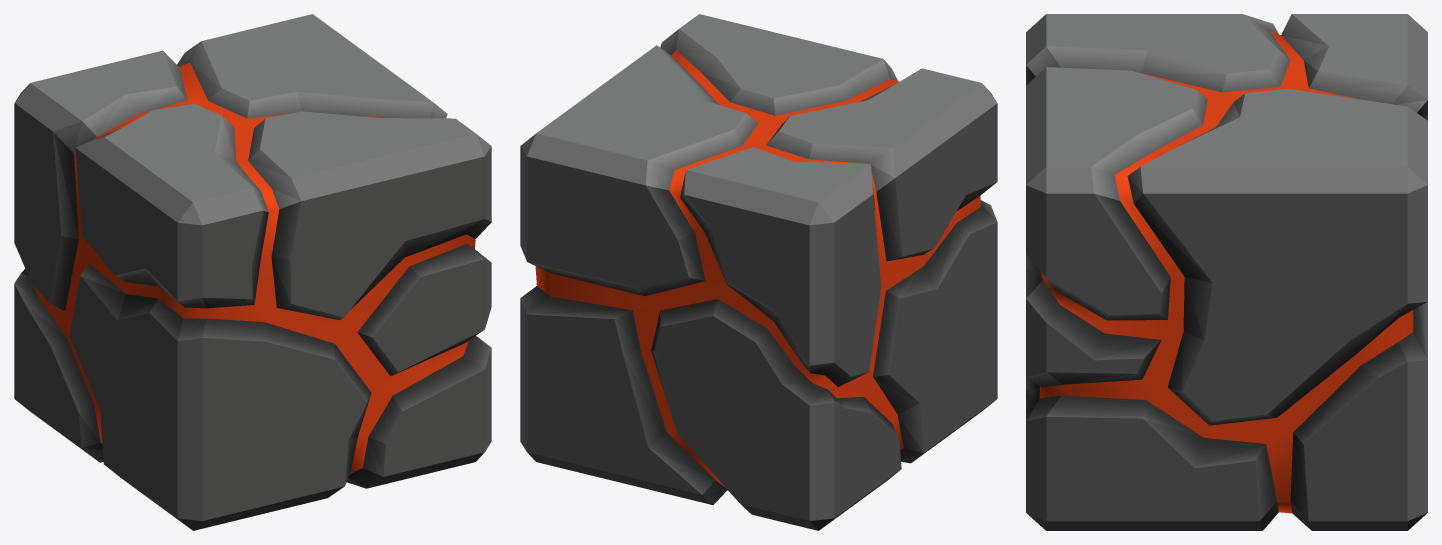
Rendered from m_kub_lava_crack.FBX.
3 views of the same model, side by side, from view 1: azimuth 30°, elevation 25°; view 2: azimuth 150°, elevation 25°; view 3: azimuth 270°, elevation 25° (orthographic). The views are drawn at different scales.
Parts seen in each view (by area): view 1: m_kub_lava_crack; view 2: m_kub_lava_crack; view 3: m_kub_lava_crack.
Boxes of the visible parts, x1,y1,x2,y2 form: m_kub_lava_crack: (14,14,491,530); m_kub_lava_crack: (520,14,997,530); m_kub_lava_crack: (1026,14,1427,530).
Bounding box in the file's own units: 2 × 2 × 2.
